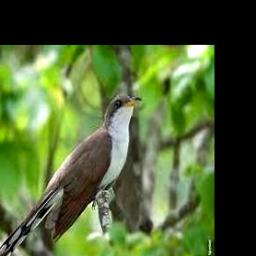Cuckoo: (0, 94, 142, 256)
